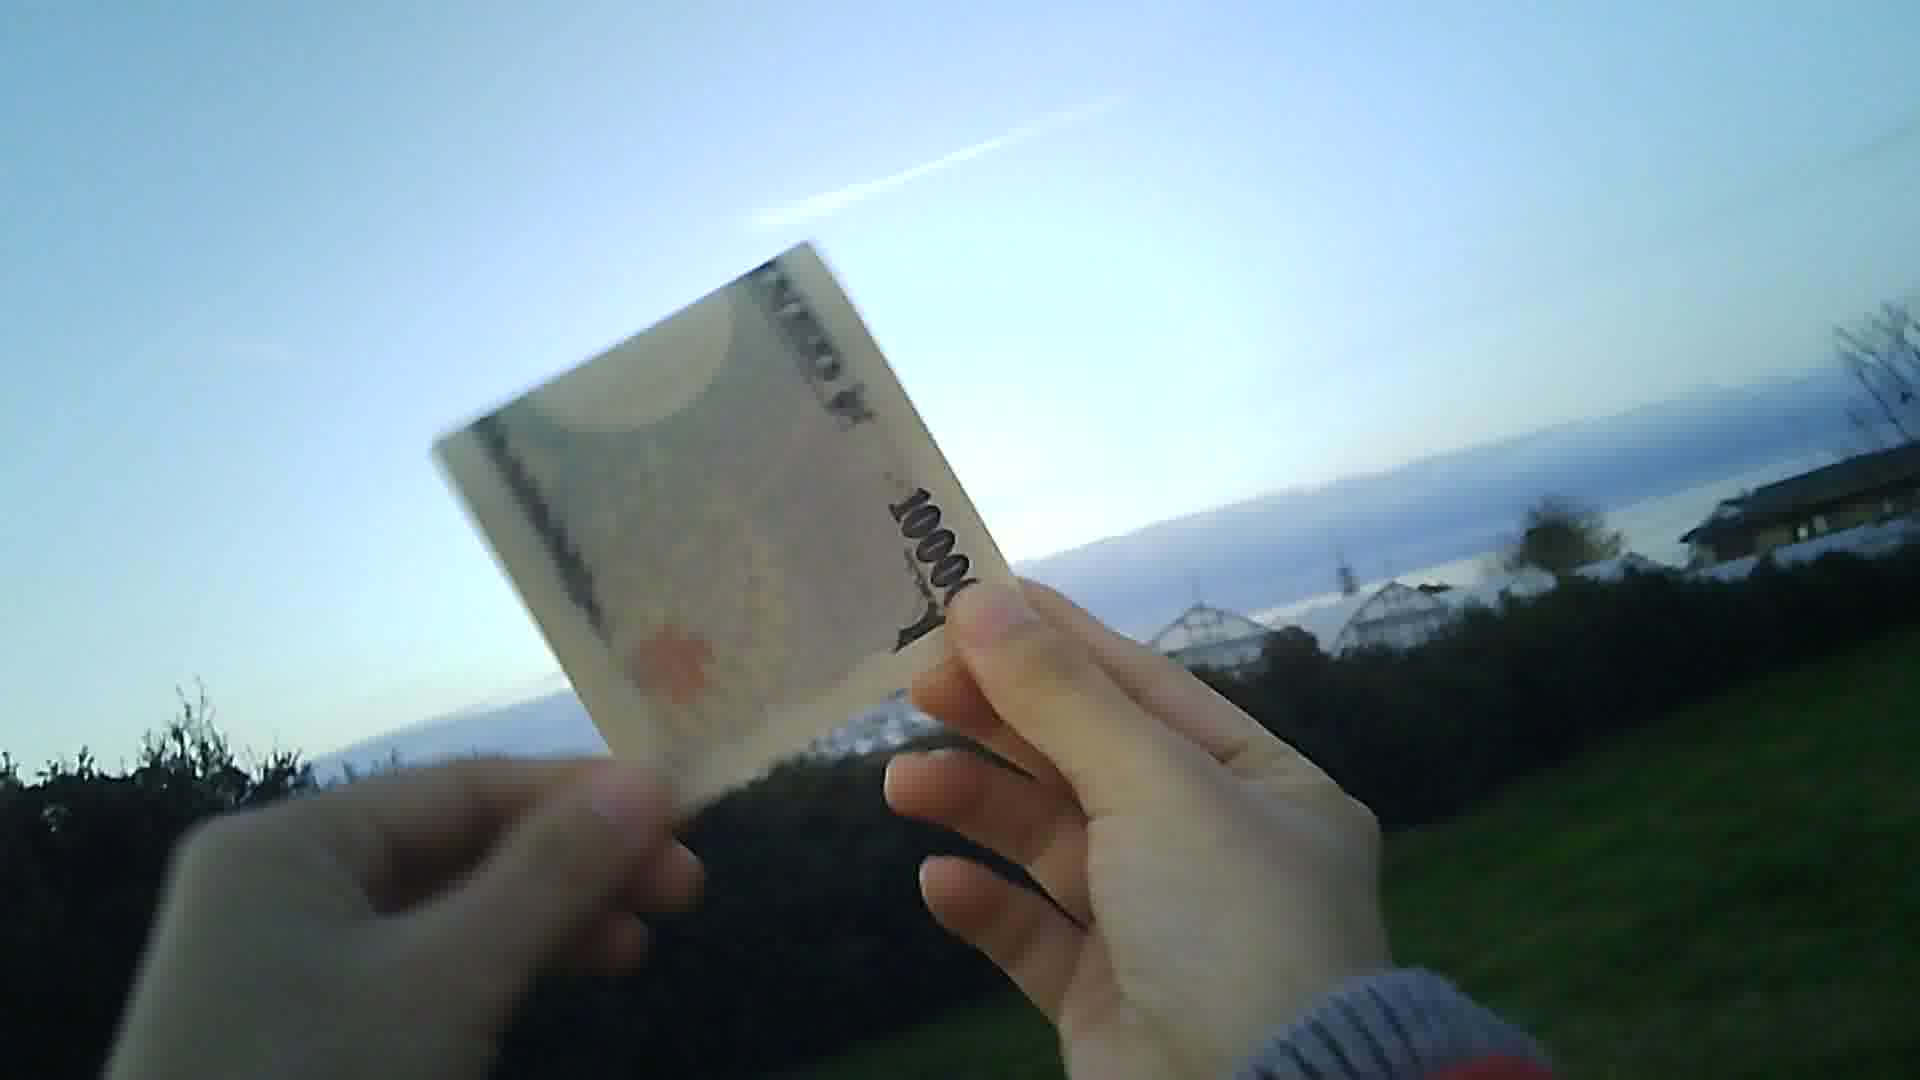10,000 Yen: (425, 207, 1062, 803)
